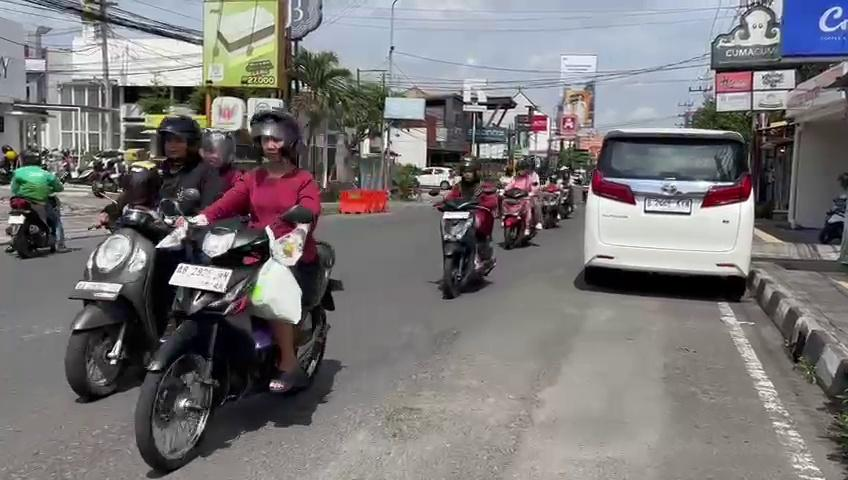helm: (249, 108, 304, 171), (152, 111, 202, 164)
riding: (66, 109, 348, 476)
